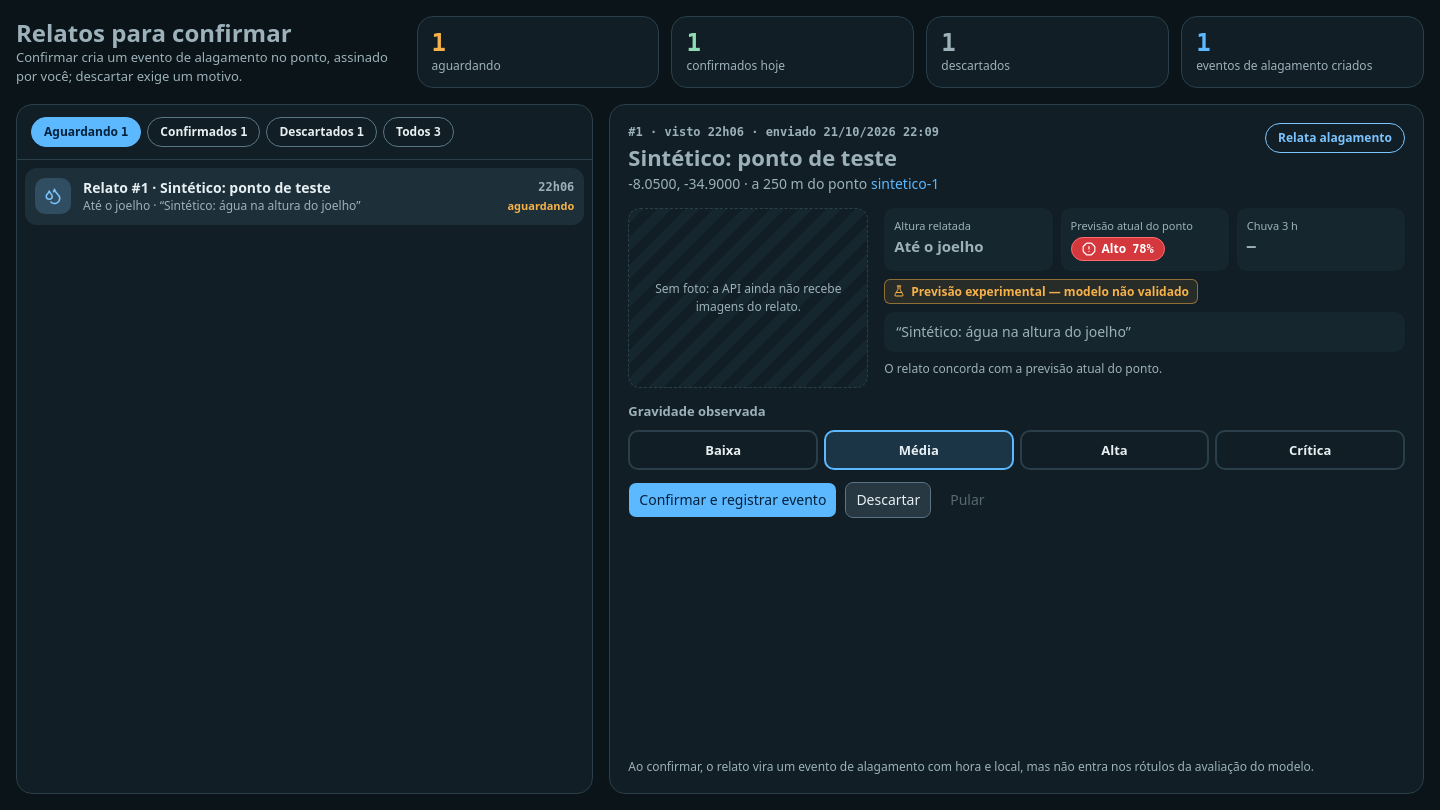
Test: ReportsPage › descartar exige motivo e envia reason
Click the button with aria-label "Descartar relato 1": click(888, 500) [845, 482, 931, 518]
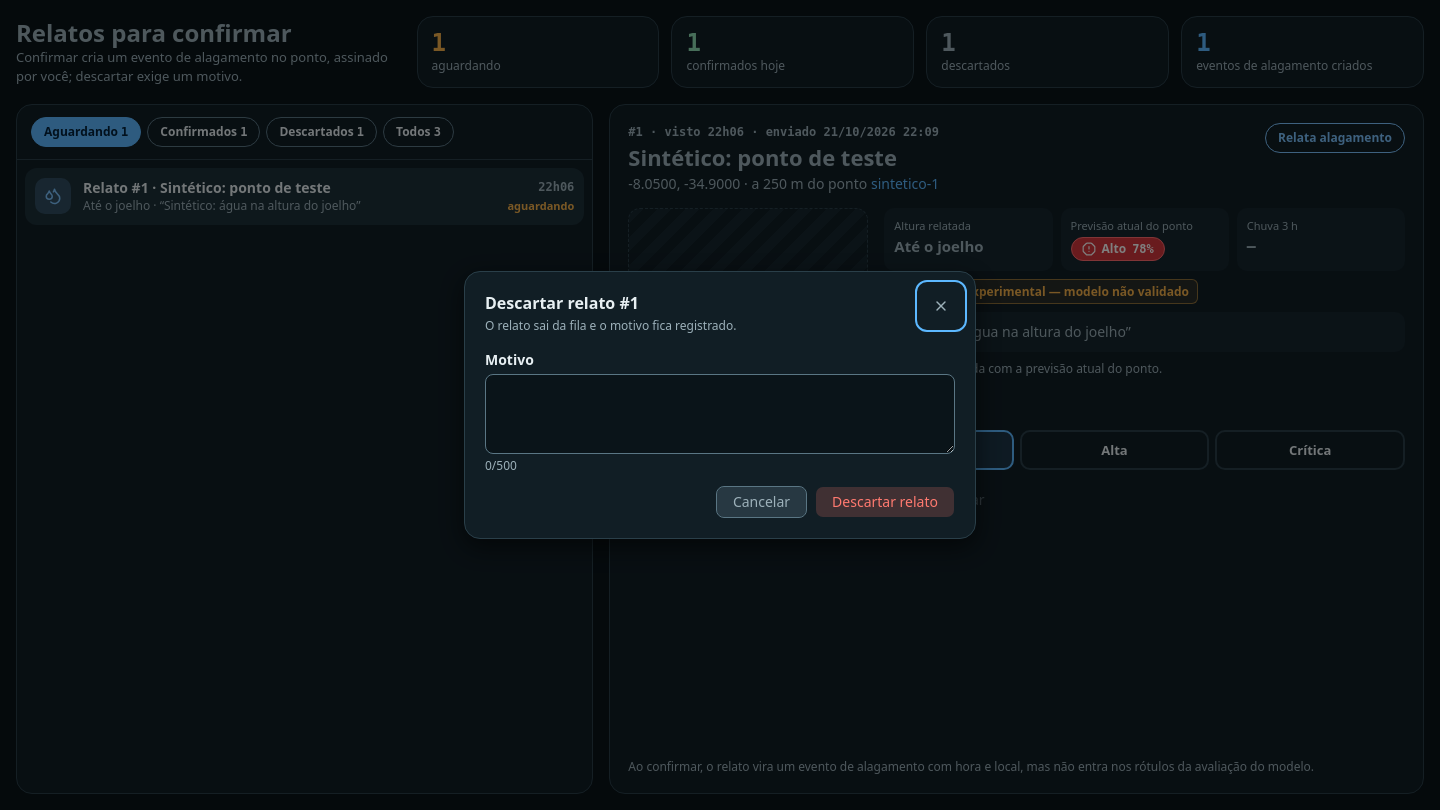
Click the button "Descartar relato": click(885, 502) [815, 486, 955, 518]
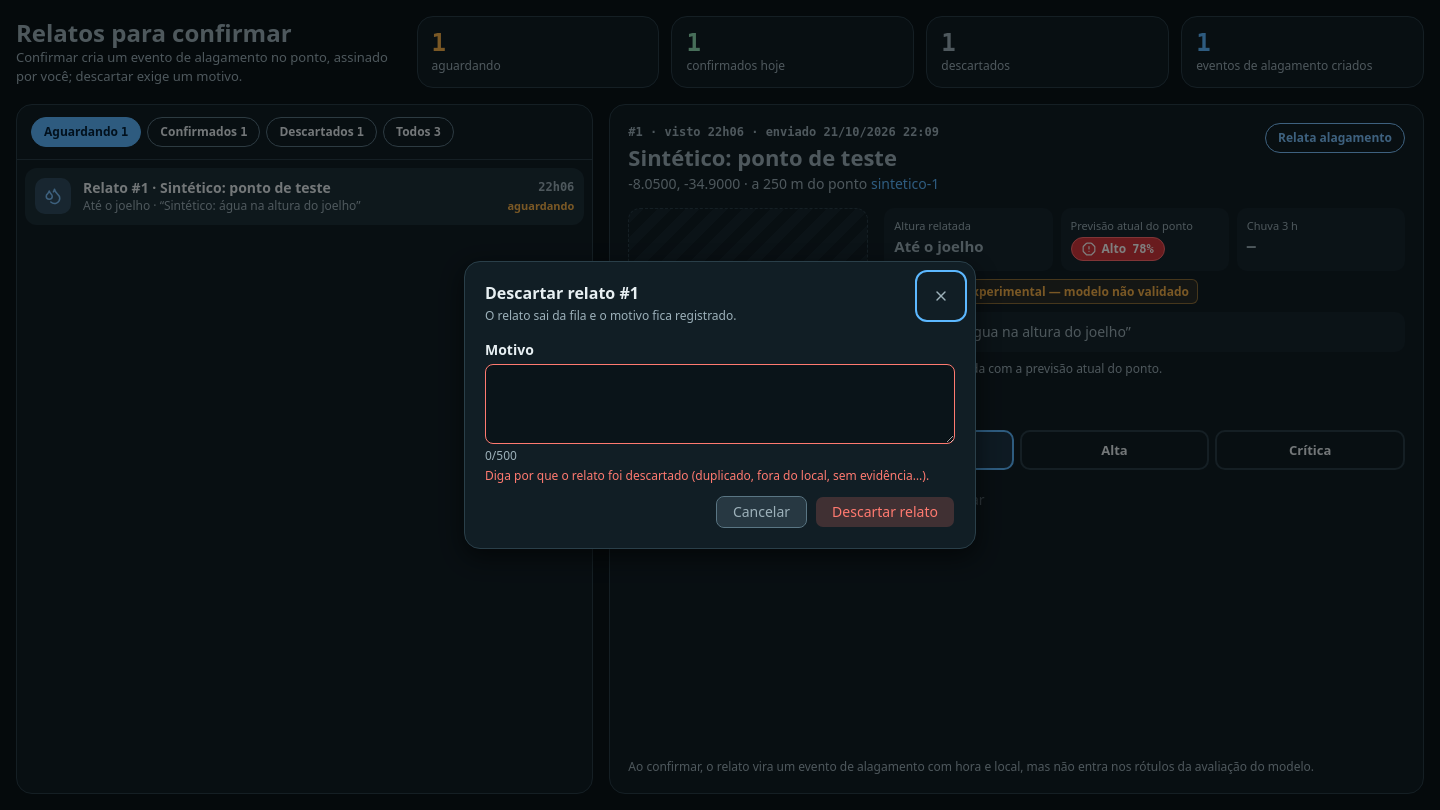
Check: the text "Diga por que o relato foi descartado" is shown, box [485, 467, 929, 484]
In the text box labelled "Motivo": (720, 404) [485, 364, 955, 444], type "duplicado"
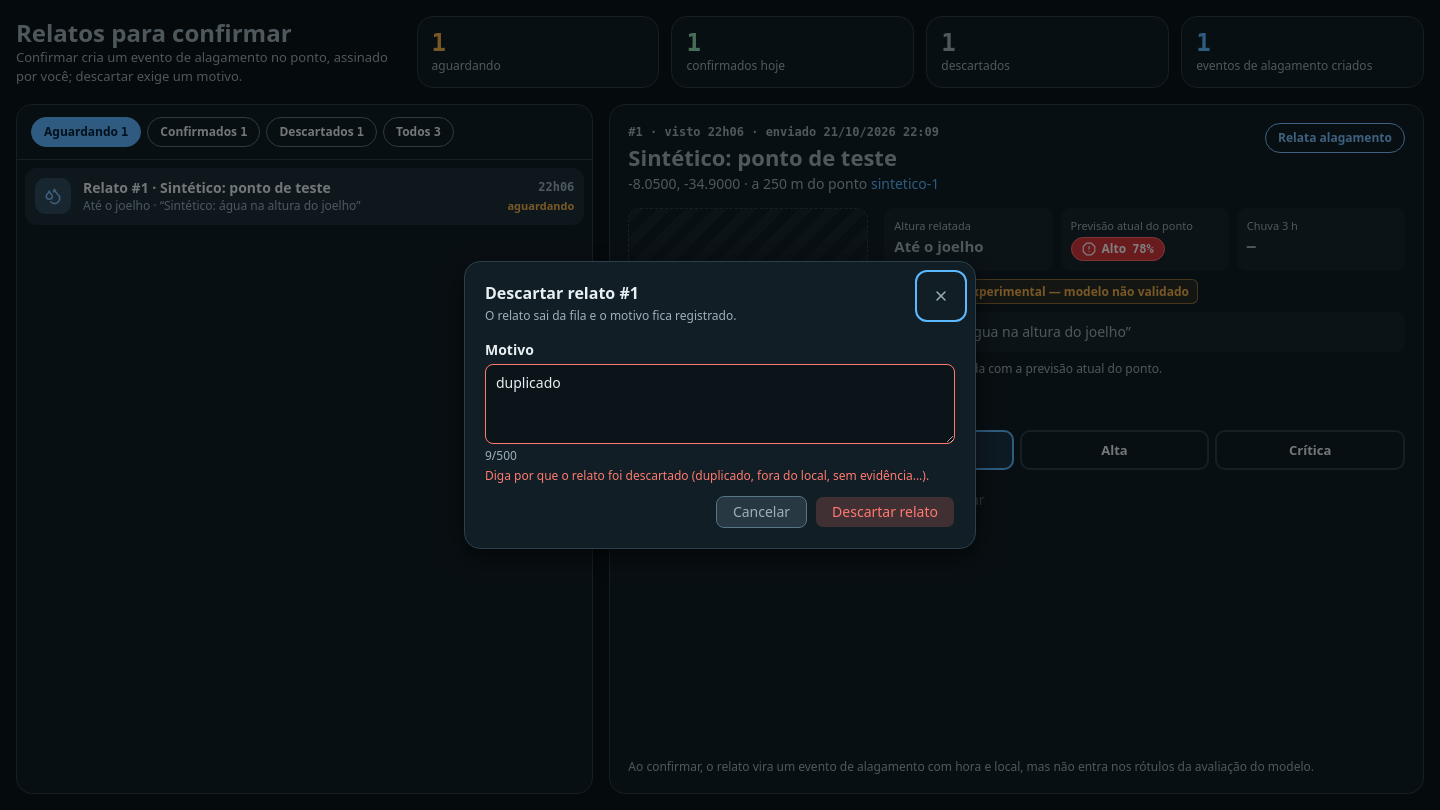
Click the button "Descartar relato": click(885, 512) [815, 496, 955, 528]
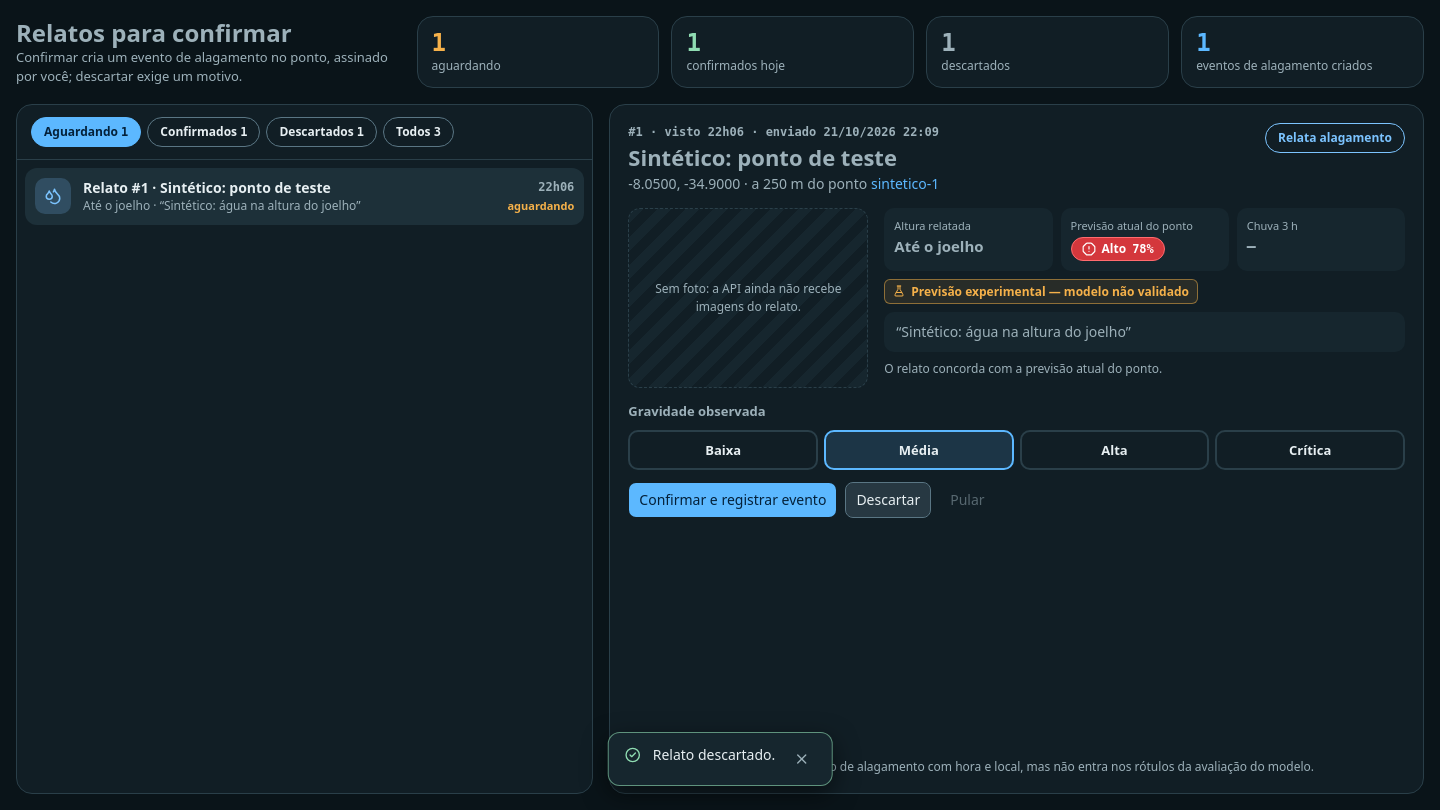
Check: the text "Relato descartado." is shown, box [653, 745, 775, 765]
